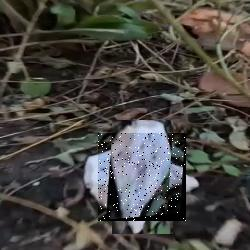restaffald: (98, 133, 186, 221)
